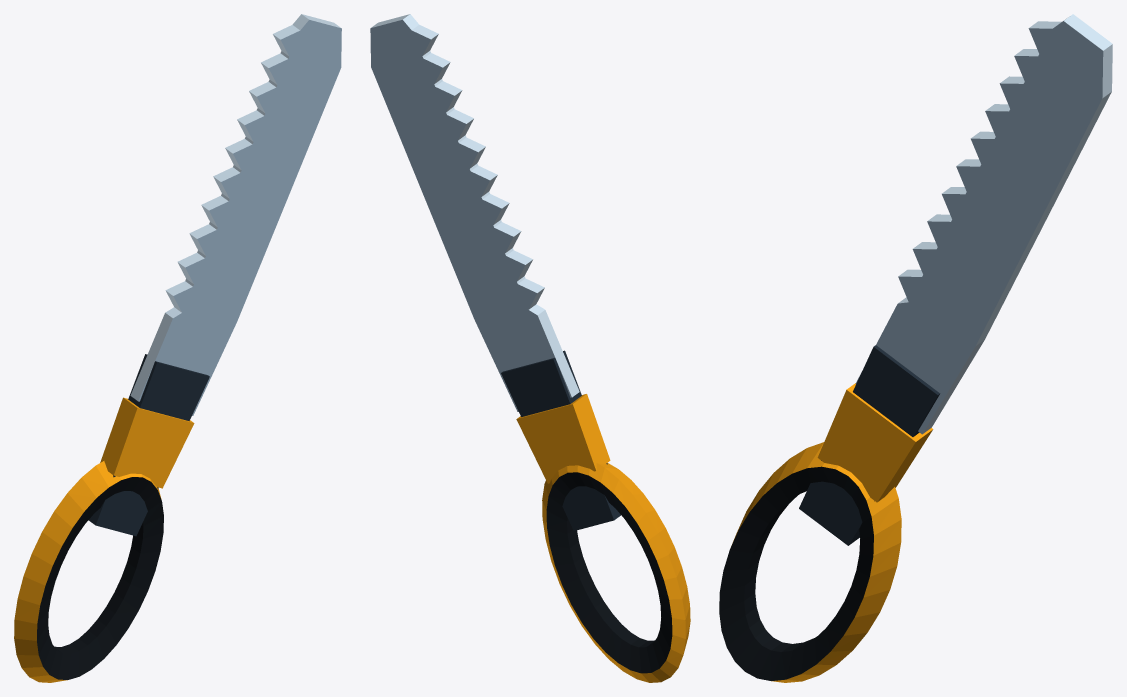
File: PinkingShears_Normal_HalfB.obj
3 views of the same model, side by side, from view 1: azimuth 30°, elevation 25°; view 2: azimuth 150°, elevation 25°; view 3: azimuth 330°, elevation 25° (orthographic). The views are drawn at different scales.
Parts seen in each view (by area): view 1: Steel, WarmGrip, Rubber, DarkSteel, BladeHighlight; view 2: Steel, WarmGrip, Rubber, DarkSteel, BladeHighlight; view 3: Steel, WarmGrip, Rubber, DarkSteel, BladeHighlight.
Part boxes in pixels (x1,y1,x2,y2): Steel: (138, 20, 341, 415); WarmGrip: (14, 397, 194, 682); Rubber: (37, 477, 163, 679); DarkSteel: (88, 354, 209, 536); BladeHighlight: (130, 14, 341, 400); Steel: (370, 19, 571, 411); WarmGrip: (516, 394, 690, 682); Rubber: (546, 472, 672, 673); DarkSteel: (501, 350, 620, 530); BladeHighlight: (371, 14, 579, 397); Steel: (855, 21, 1103, 434); WarmGrip: (731, 383, 933, 682); Rubber: (719, 466, 873, 680); DarkSteel: (799, 345, 940, 545); BladeHighlight: (898, 14, 1112, 433).
Size of the model in its own units: 0.1409 by 0.2566 by 0.014.
